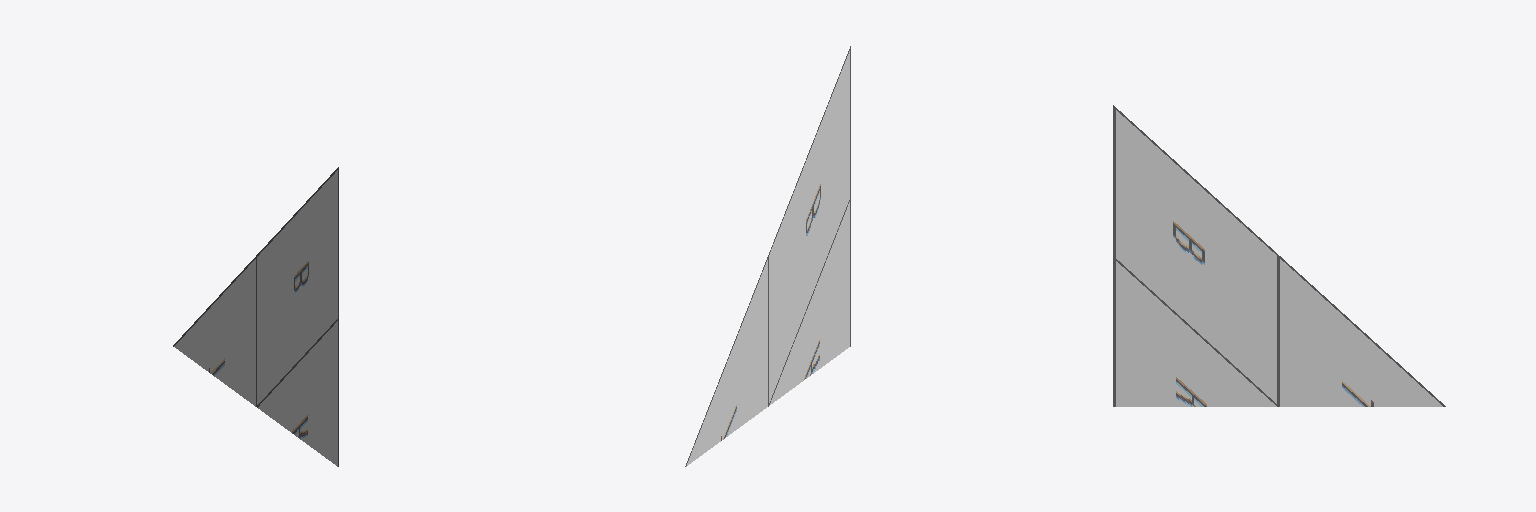
3 views of the same model, side by side, from view 1: azimuth 30°, elevation 25°; view 2: azimuth 150°, elevation 25°; view 3: azimuth 270°, elevation 25° (orthographic).
Parts seen in each view (by area): view 1: Cube.001; view 2: Cube.001; view 3: Cube.001.
Boxes of the visible parts, x1=… form: Cube.001: x1=173, y1=167, x2=338, y2=466; Cube.001: x1=685, y1=46, x2=850, y2=466; Cube.001: x1=1113, y1=105, x2=1445, y2=406.
Bounding box in the file's own units: 0 × 2 × 2.
1 materials, 1 textured.